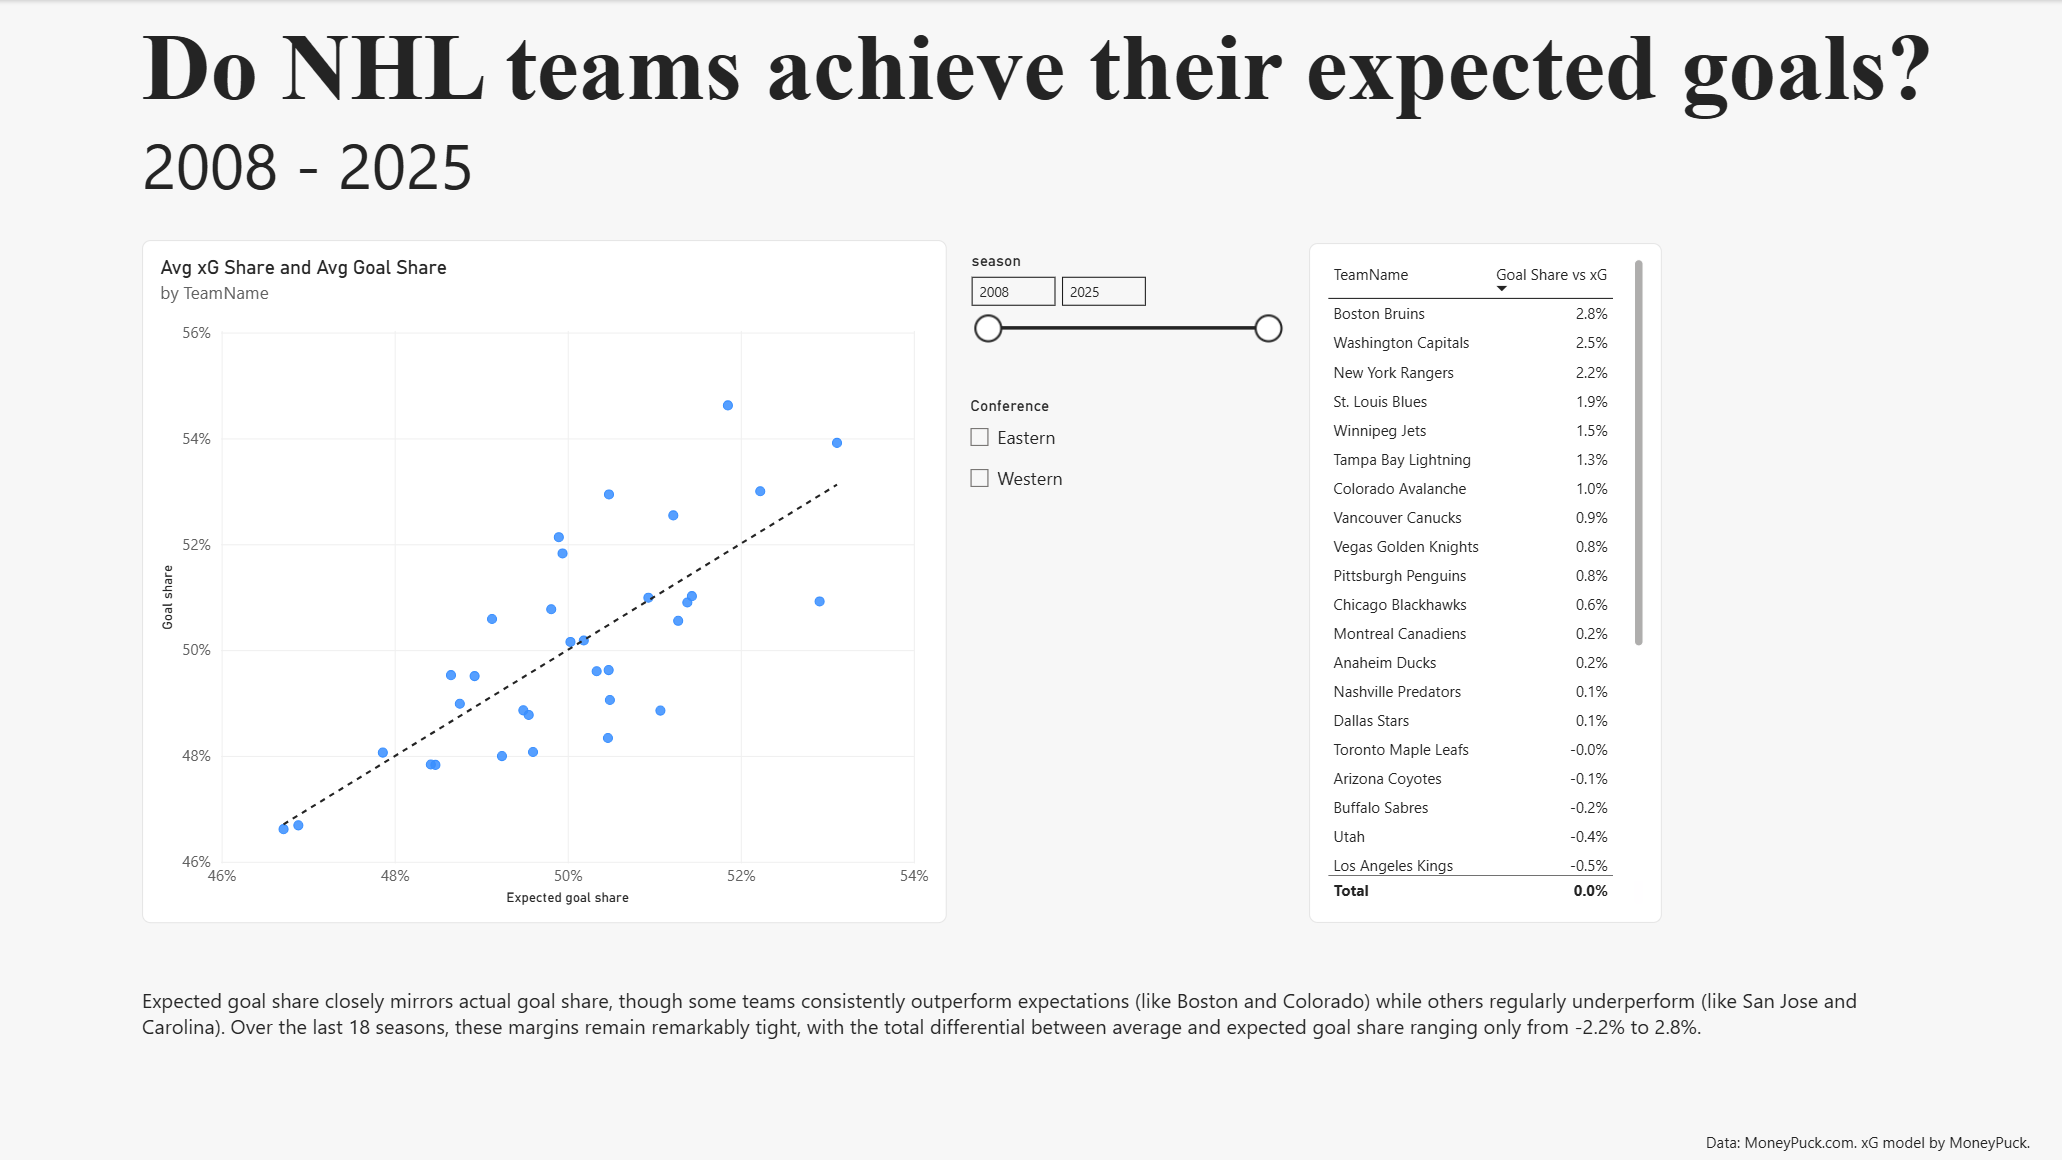

This screenshot's page, from the dashboard's own definition file:
{"tool":"powerbi","page":{"name":"League View","canvas":[1920,1080],"ordinal":0},"visuals":[{"type":"scatterChart","fields":{"Category":["Teams.TeamName"],"X":["TeamSeasons.Avg xG Share"],"Y":["TeamSeasons.Avg Goal Share"]},"box":[132.5,222.8,748.4,634.9],"z":0},{"type":"slicer","fields":{"Values":["TeamSeasons.season"]},"box":[895.9,234.3,300,300],"z":1000},{"type":"slicer","fields":{"Values":["Teams.Conference"]},"box":[895.2,369.1,300,300],"z":1001},{"type":"tableEx","fields":{"Values":["Teams.TeamName","TeamSeasons.Goal Share vs xG"]},"box":[1217.2,225.8,327.9,632.1],"z":1002},{"type":"textbox","box":[132.5,11.8,1674.6,222.8],"z":1003},{"type":"textbox","box":[132.5,916.8,1630.4,69.7],"z":1004},{"type":"textbox","box":[1586.3,1052.3,333.7,27.5],"z":1005}]}

Visuals, with their boxes in screenshot pixels (x1, y1, x2, y2), scaled from the page's 1920x1080 canvas onto the 2062x1160 screenshot:
scatterChart - Teams.TeamName x TeamSeasons.Avg xG Share: Rect(142, 239, 946, 921)
slicer - TeamSeasons.season: Rect(962, 252, 1284, 574)
slicer - Teams.Conference: Rect(961, 396, 1284, 719)
tableEx - Teams.TeamName x TeamSeasons.Goal Share vs xG: Rect(1307, 243, 1659, 921)
textbox: Rect(142, 13, 1941, 252)
textbox: Rect(142, 985, 1893, 1060)
textbox: Rect(1704, 1130, 2061, 1159)
